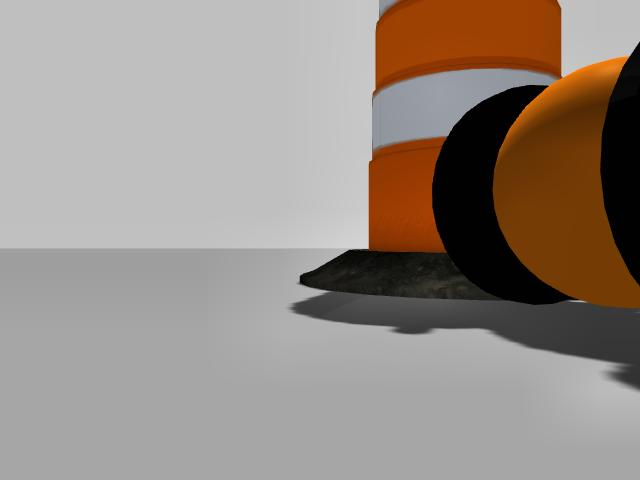target: (430, 40, 640, 310)
